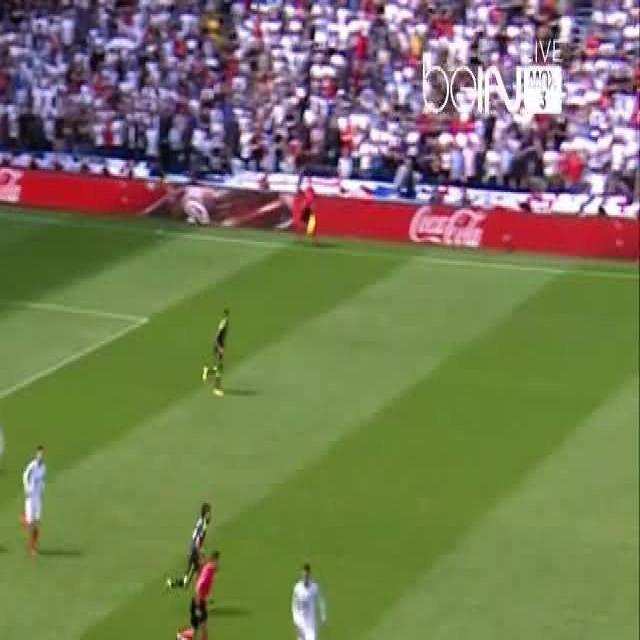player-white: (163, 504, 211, 593), (173, 553, 218, 640), (19, 444, 46, 554), (290, 565, 326, 640), (202, 307, 230, 398)
